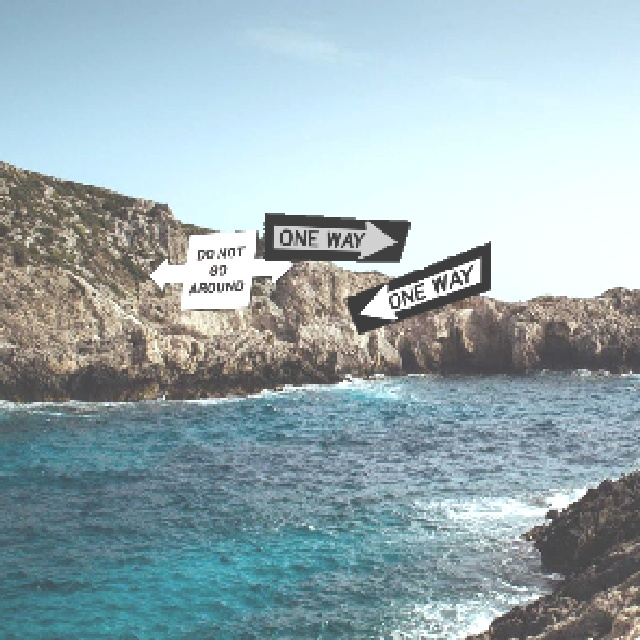DO_NOT_GO_AROUND: (146, 227, 293, 310)
ONE_WAY_ left: (343, 239, 490, 333)
ONE_WAY_ right: (262, 211, 409, 261)
